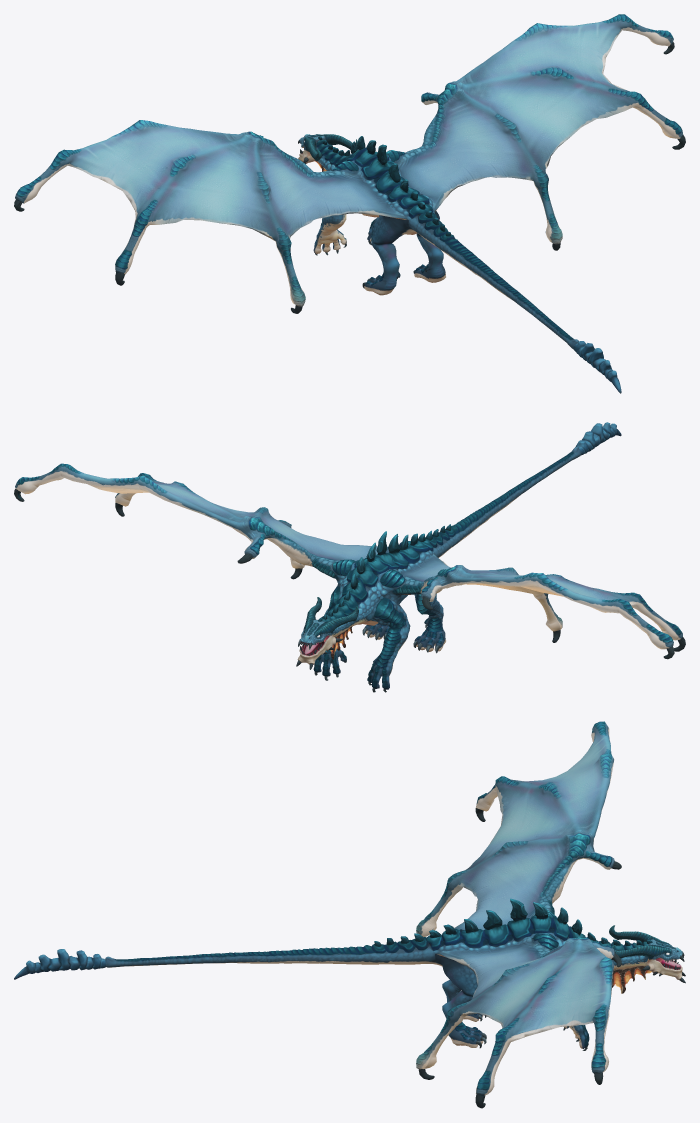
Rendered from final_form_dragon.glb.
3 views of the same model, one above another, from view 1: azimuth 30°, elevation 25°; view 2: azimuth 150°, elevation 25°; view 3: azimuth 270°, elevation 25° (orthographic). The views are drawn at different scales.
Parts seen in each view (by area): view 1: dragon_body2, dragon_teethspikes, dragon_head1; view 2: dragon_body2, dragon_teethspikes, dragon_head1; view 3: dragon_body2, dragon_teethspikes, dragon_head1.
Part boxes in pixels (x1=…): dragon_body2: x1=15, y1=14, x2=682, y2=393; dragon_teethspikes: x1=14, y1=42, x2=685, y2=313; dragon_head1: x1=298, y1=134, x2=357, y2=163; dragon_body2: x1=15, y1=422, x2=682, y2=689; dragon_teethspikes: x1=14, y1=488, x2=685, y2=692; dragon_head1: x1=297, y1=597, x2=358, y2=664; dragon_body2: x1=14, y1=721, x2=651, y2=1095; dragon_teethspikes: x1=374, y1=808, x2=685, y2=1108; dragon_head1: x1=609, y1=925, x2=682, y2=979.
Size of the model in its own units: 36.94 by 9.06 by 30.83.
Materials: 5 (4 with a texture image).
